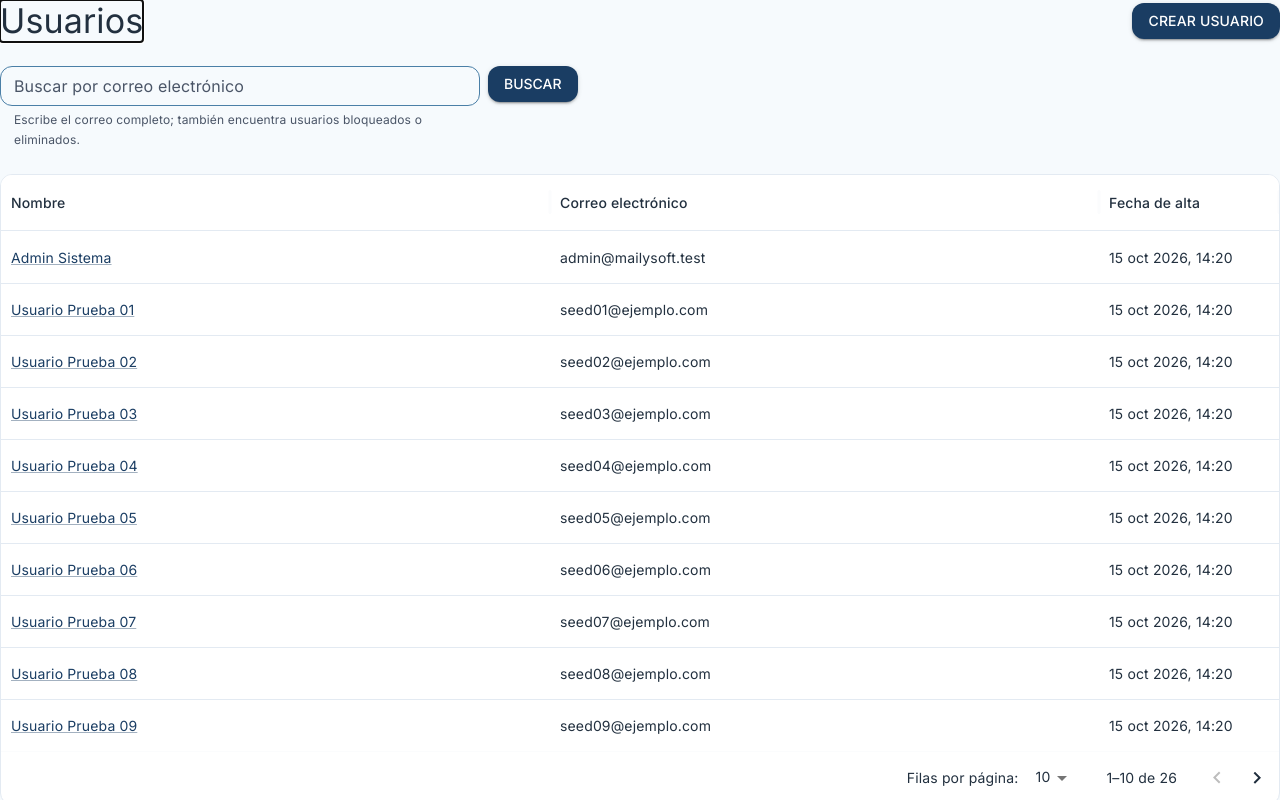
Test case: UsersListPage: the search by email › shows the error next to the field and asks nothing when the email is not valid (US1-13)
Expected: the link "Admin Sistema" is shown, [11, 249, 112, 266]
Type "no-es-correo" into the field labelled "Buscar por correo electrónico" at (240, 86), box [0, 66, 480, 106]
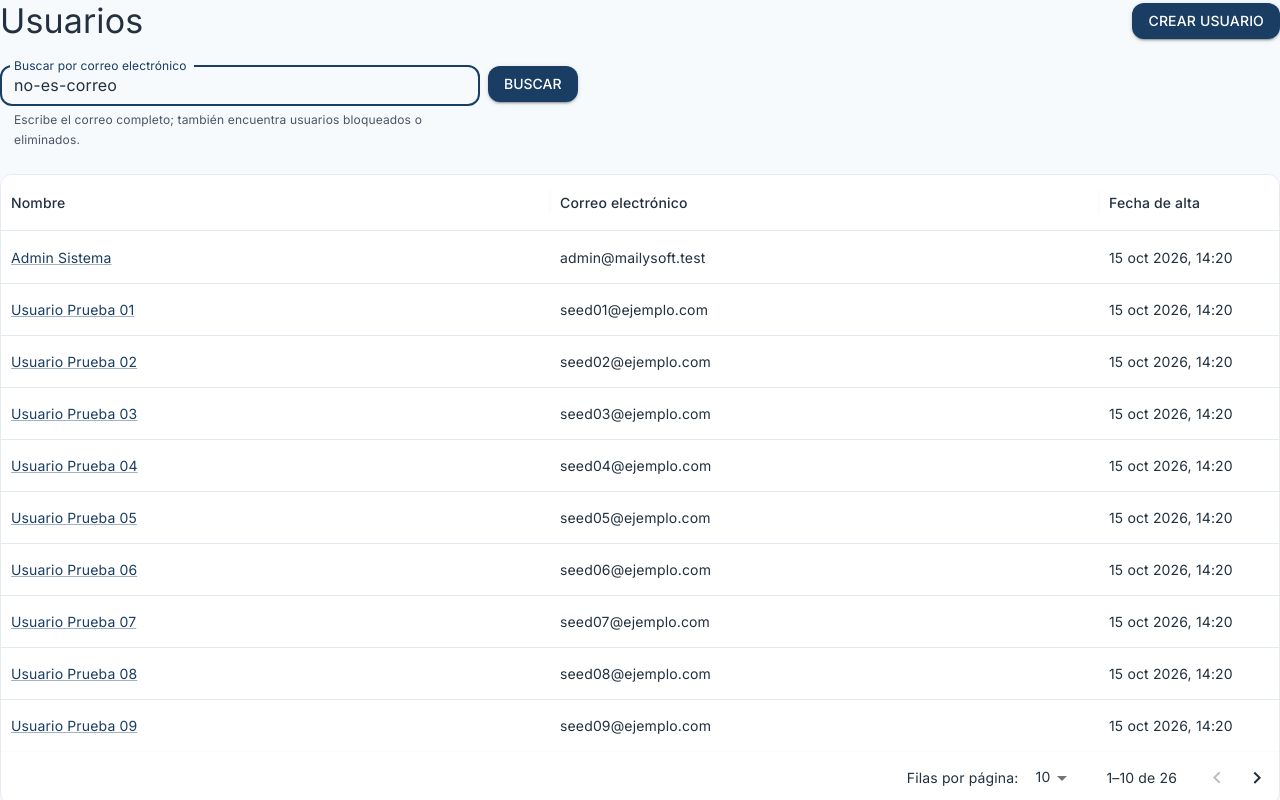
Click the button "Buscar" at (533, 84), box [488, 66, 578, 102]
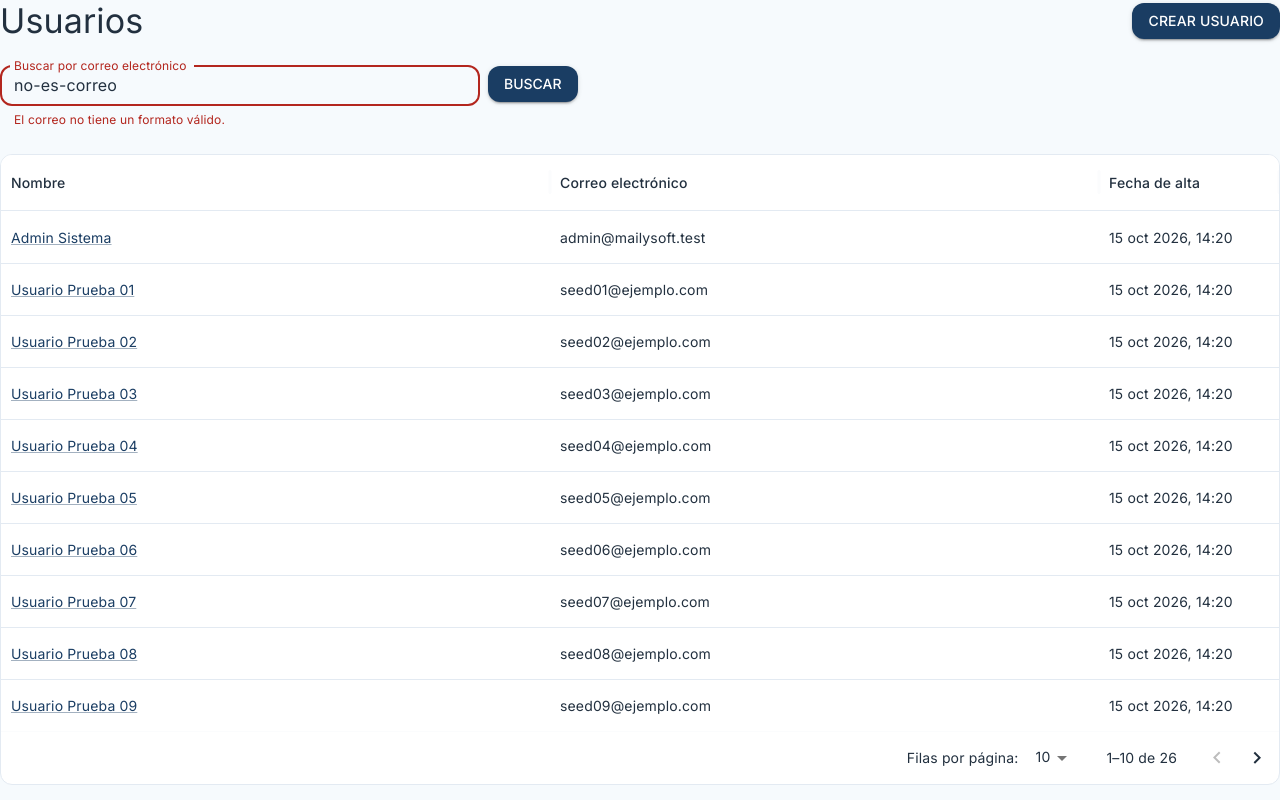
Expected: the text "El correo no tiene un formato válido." is shown, [14, 112, 225, 127]
